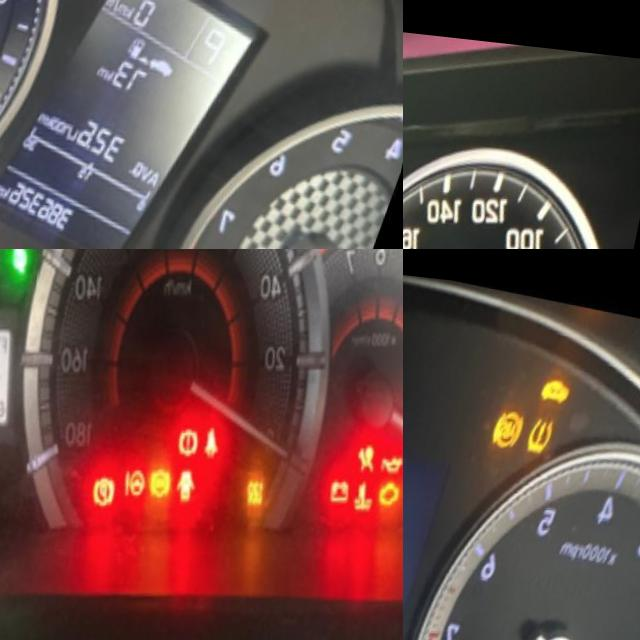Doors: (186, 457, 219, 501)
Engine cooling system: (364, 466, 394, 507)
security: (536, 358, 583, 401)
